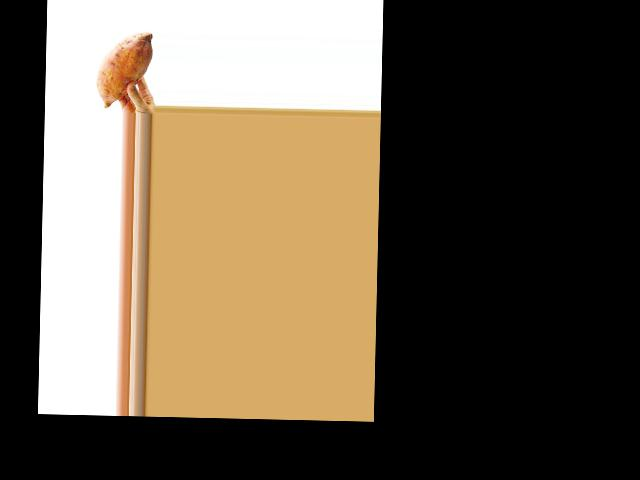sweet_potato: (91, 29, 155, 106)
